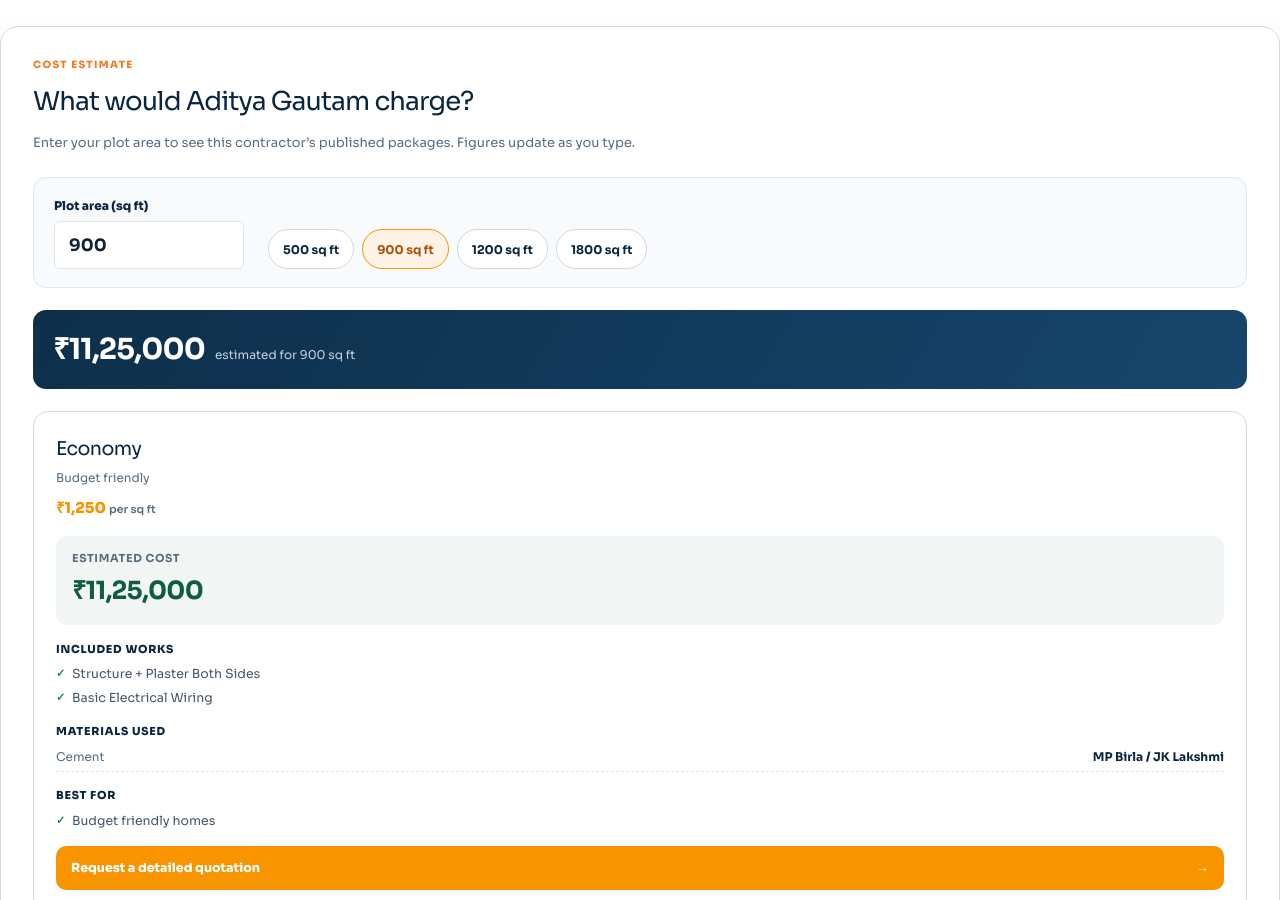
Test: PackageCalculator › recalculates live when the area changes
Replace the text in the number field labelled "Plot area (sq ft)" with "500" at [149, 245], box [54,221,244,269]
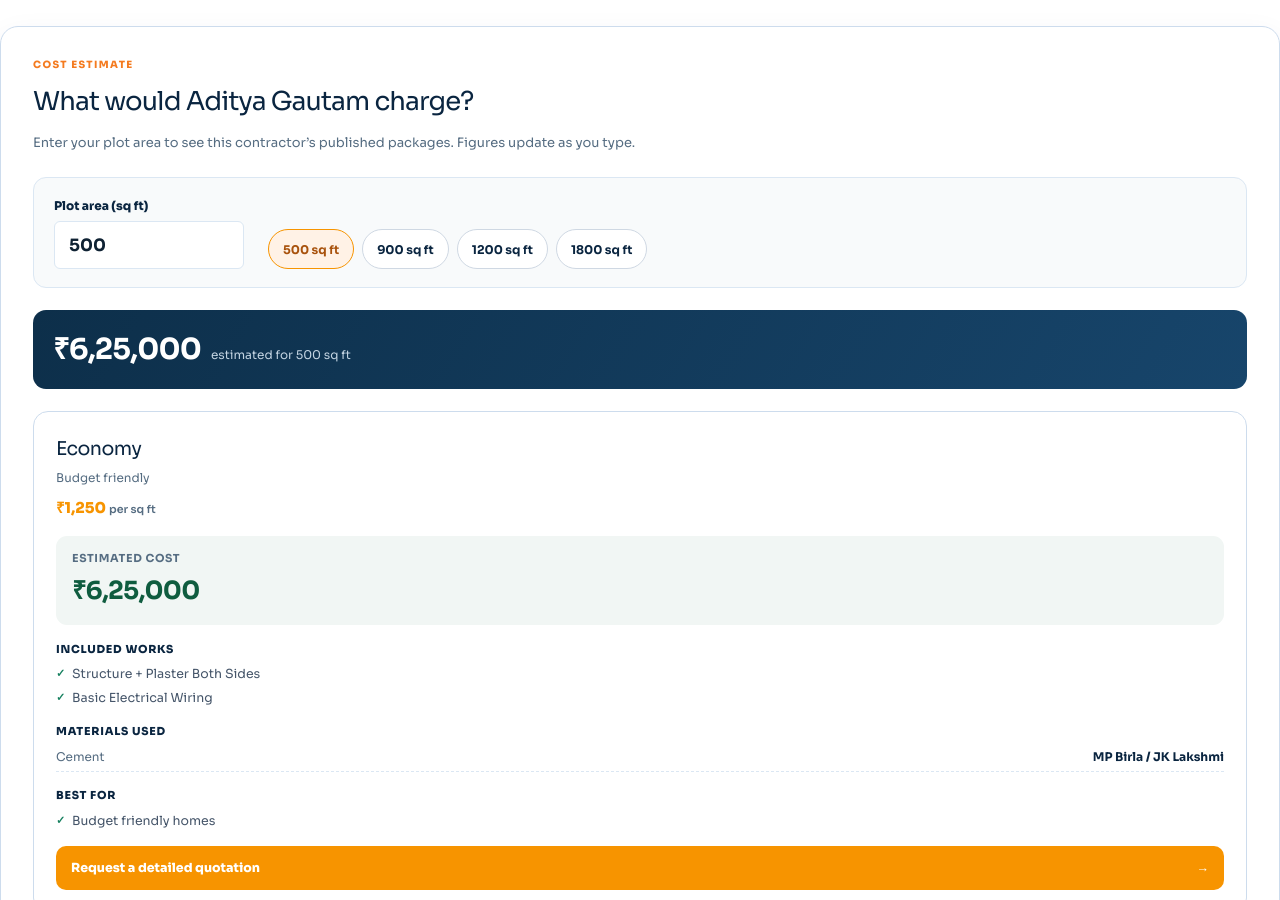
Now the text "₹6,25,000" below "Estimated cost" is shown, box [72,575,200,606]
Now the text "₹11,25,000" is gone
